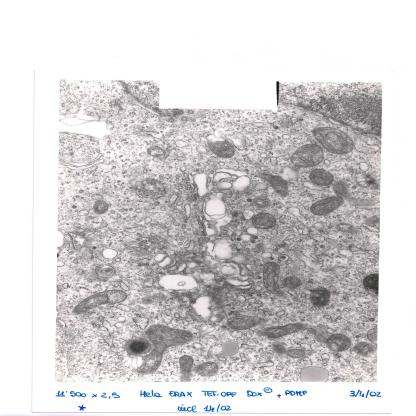mitochondria: (311, 120, 355, 156), (71, 290, 130, 314), (262, 262, 290, 302), (254, 171, 292, 198), (288, 143, 326, 168), (264, 322, 310, 342), (308, 196, 346, 216), (250, 210, 280, 230), (206, 139, 236, 159), (326, 332, 352, 354), (194, 360, 223, 379), (308, 167, 335, 187), (225, 315, 260, 329), (177, 355, 195, 382), (91, 198, 113, 216), (352, 340, 374, 358), (280, 276, 304, 288), (270, 342, 288, 354), (284, 349, 306, 358)
